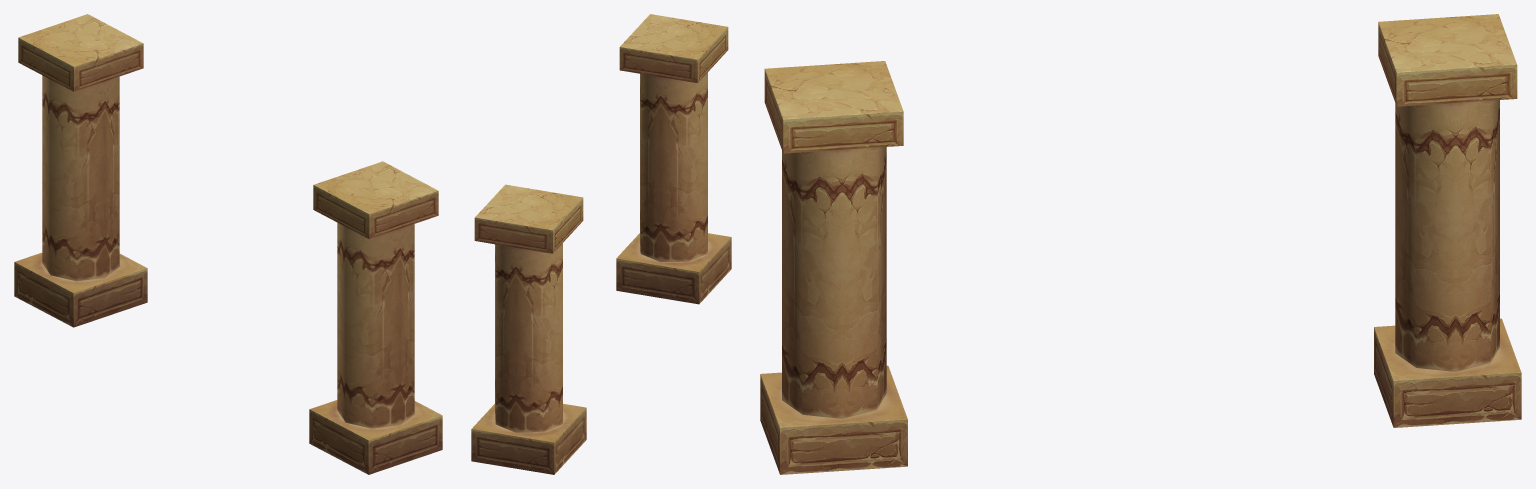
The model's file is Area_10_42.fbx.
3 views of the same model, side by side, from view 1: azimuth 30°, elevation 25°; view 2: azimuth 150°, elevation 25°; view 3: azimuth 270°, elevation 25° (orthographic). The views are drawn at different scales.
Visible parts, largest first — view 1: Area_10_42; view 2: Area_10_42; view 3: Area_10_42.
Part boxes in pixels (box(x1,y1,x2,y2)): Area_10_42: box(14, 14, 442, 474); Area_10_42: box(471, 14, 731, 474); Area_10_42: box(760, 14, 1521, 474).
Bounding box in the file's own units: 315 × 475 × 927.
